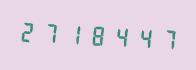eight: (86, 19, 108, 50)
four: (109, 20, 131, 51), (132, 21, 154, 52)
one: (63, 18, 85, 49)
seven: (40, 17, 62, 48), (155, 23, 177, 54)
two: (17, 15, 39, 46)
